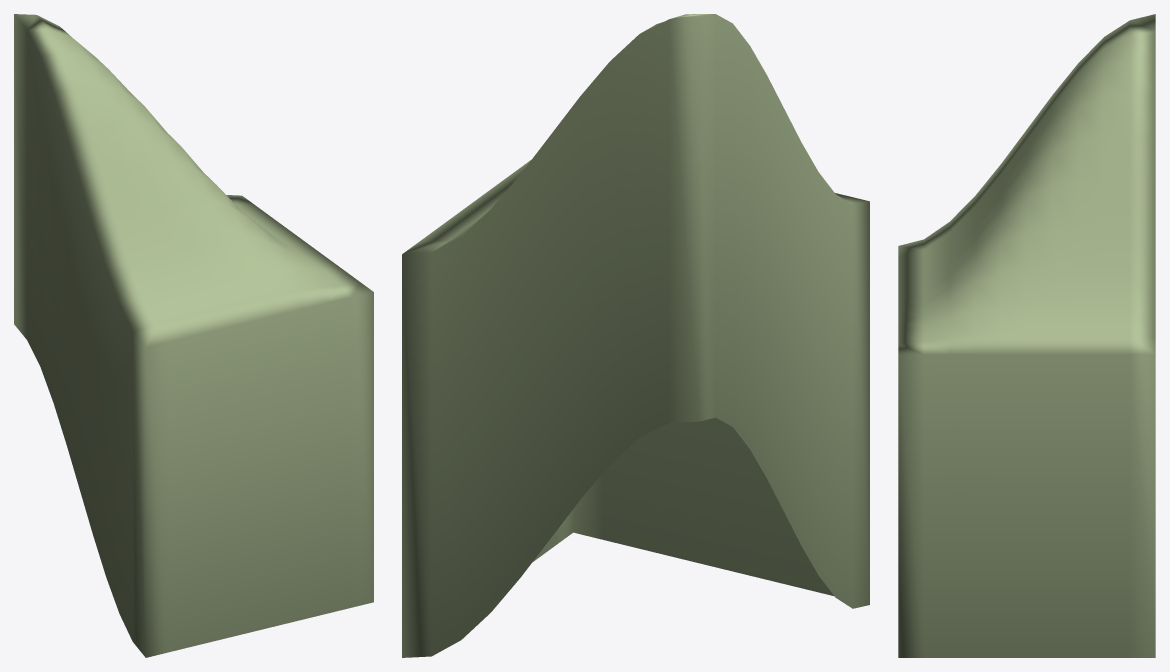
The model's file is ground-corner-out.glb.
The picture shows the model from 3 angles, left to right: view 1: azimuth 30°, elevation 25°; view 2: azimuth 150°, elevation 25°; view 3: azimuth 270°, elevation 25°; orthographic projection. The views are drawn at different scales.
Visible parts, largest first — view 1: ground-corner-out; view 2: ground-corner-out; view 3: ground-corner-out.
Boxes of the visible parts, <box> form: ground-corner-out: <box>14,14,373,657</box>; ground-corner-out: <box>402,14,869,657</box>; ground-corner-out: <box>898,14,1155,657</box>.
Bounding box in the file's own units: 1 × 2.29 × 1.
